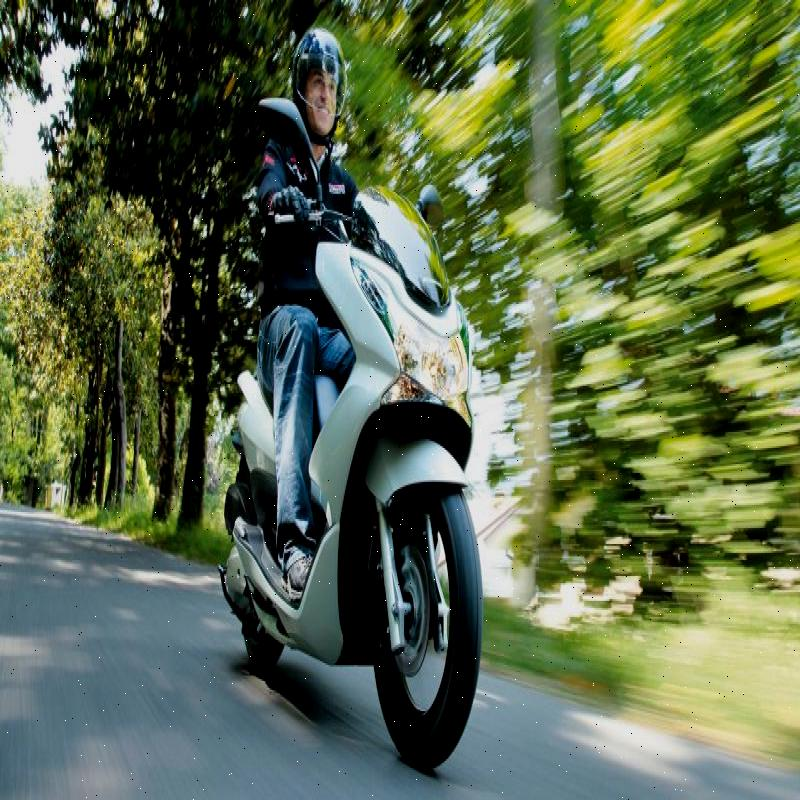bike: (185, 162, 522, 789)
